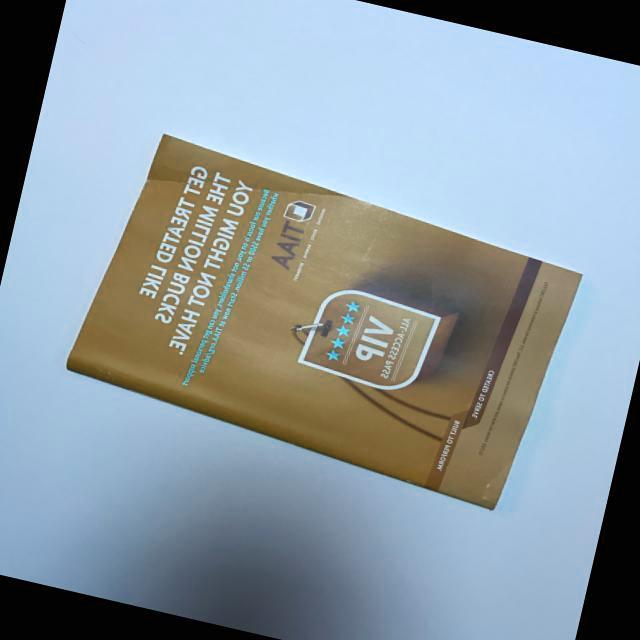paper: (13, 102, 601, 532)
